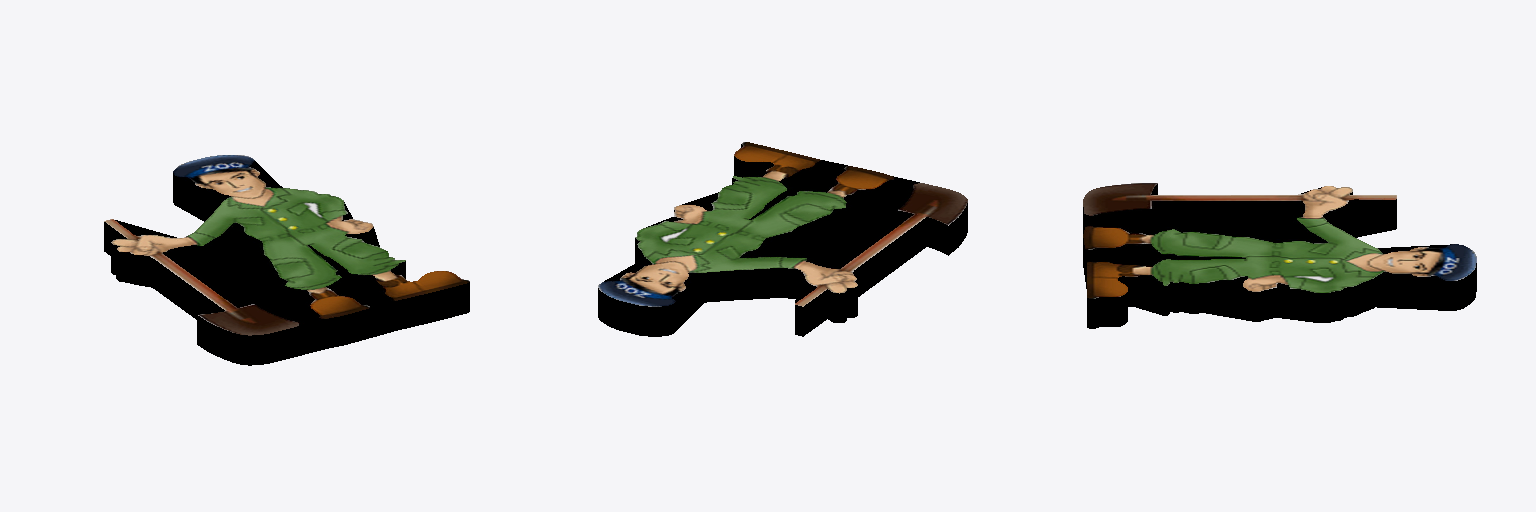
3 renders of one model, left to right at view 1: azimuth 30°, elevation 25°; view 2: azimuth 150°, elevation 25°; view 3: azimuth 270°, elevation 25°, orthographic.
Parts seen in each view (by area): view 1: Vert.001; view 2: Vert.001; view 3: Vert.001.
Part boxes in pixels (x1,y1,x2,y2): Vert.001: (104, 155, 469, 365); Vert.001: (598, 142, 967, 336); Vert.001: (1083, 183, 1476, 328).
Bounding box in the file's own units: 2.02 × 0.2418 × 2.87.
1 materials, 1 textured.